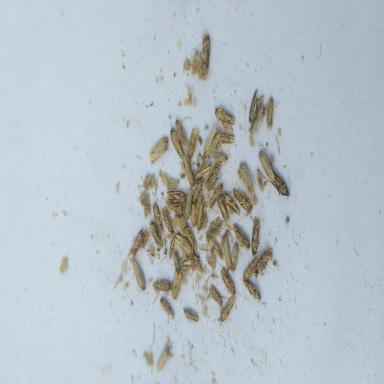pbw: (268, 166, 292, 202), (254, 242, 274, 279), (246, 86, 264, 125), (250, 212, 264, 260), (239, 273, 262, 302), (201, 126, 221, 159), (265, 95, 281, 134), (214, 104, 236, 132), (232, 186, 254, 214), (125, 227, 143, 261), (257, 149, 275, 183), (238, 161, 254, 198), (248, 103, 265, 137), (221, 232, 234, 276), (242, 254, 262, 282), (148, 135, 168, 163), (231, 222, 250, 251), (170, 126, 186, 159), (199, 32, 212, 72), (205, 216, 225, 242), (159, 296, 175, 328), (208, 180, 224, 212), (148, 219, 164, 251), (219, 295, 236, 324), (220, 266, 236, 296), (131, 260, 146, 292), (179, 157, 194, 189), (174, 118, 189, 150), (155, 344, 171, 374), (222, 192, 242, 216), (186, 125, 200, 159), (181, 225, 199, 251), (174, 234, 194, 257), (205, 162, 220, 192), (192, 161, 214, 180), (161, 206, 175, 235), (197, 193, 207, 233), (228, 241, 240, 274), (152, 202, 164, 234), (151, 275, 172, 293), (166, 188, 187, 206), (164, 200, 185, 218), (208, 284, 223, 308), (217, 194, 229, 224), (179, 255, 201, 271), (192, 176, 204, 205), (216, 130, 236, 147), (182, 306, 200, 324), (172, 271, 182, 303), (167, 233, 177, 261), (184, 185, 192, 220), (191, 200, 200, 230), (255, 166, 264, 194), (212, 150, 229, 164), (213, 241, 224, 262), (142, 226, 150, 250), (172, 250, 180, 274)
